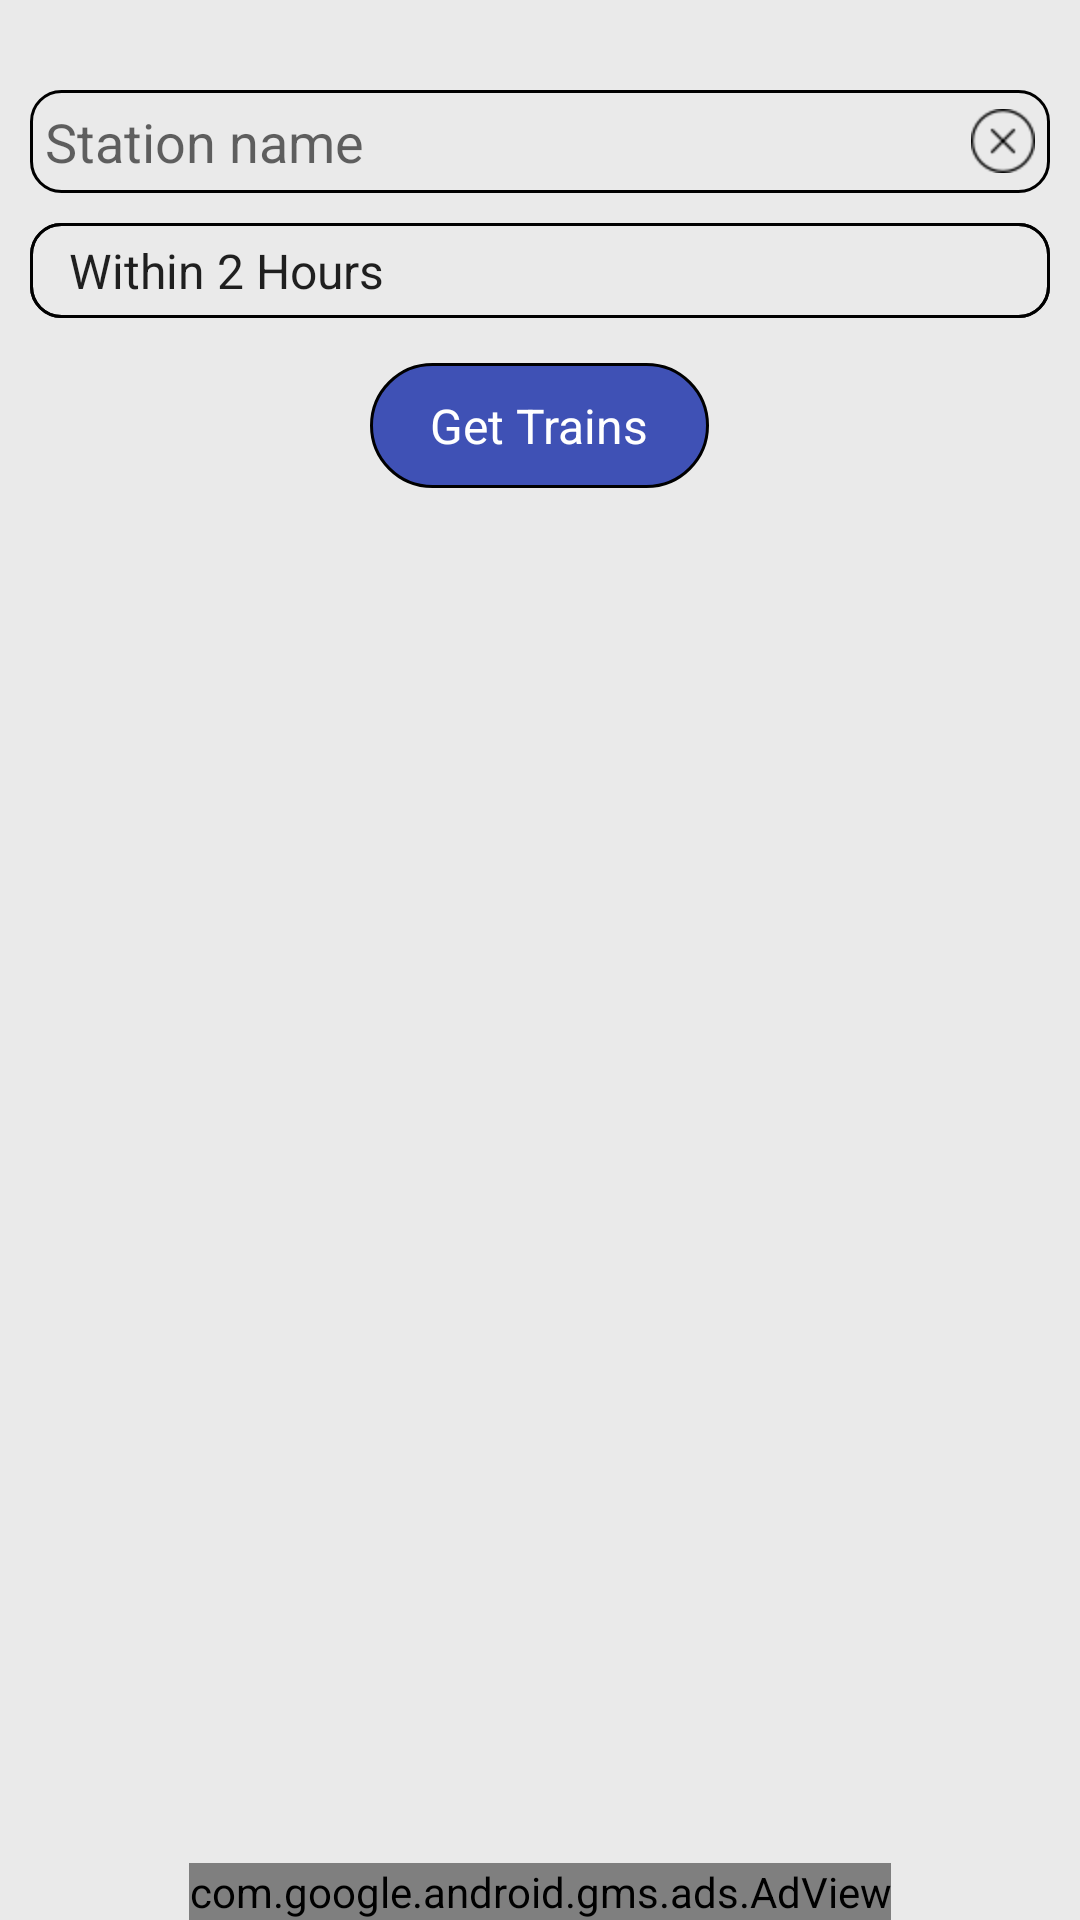

Named icons in this screenshot (1080*1920) and their centers, (x,y):
cross: (1003,141)
